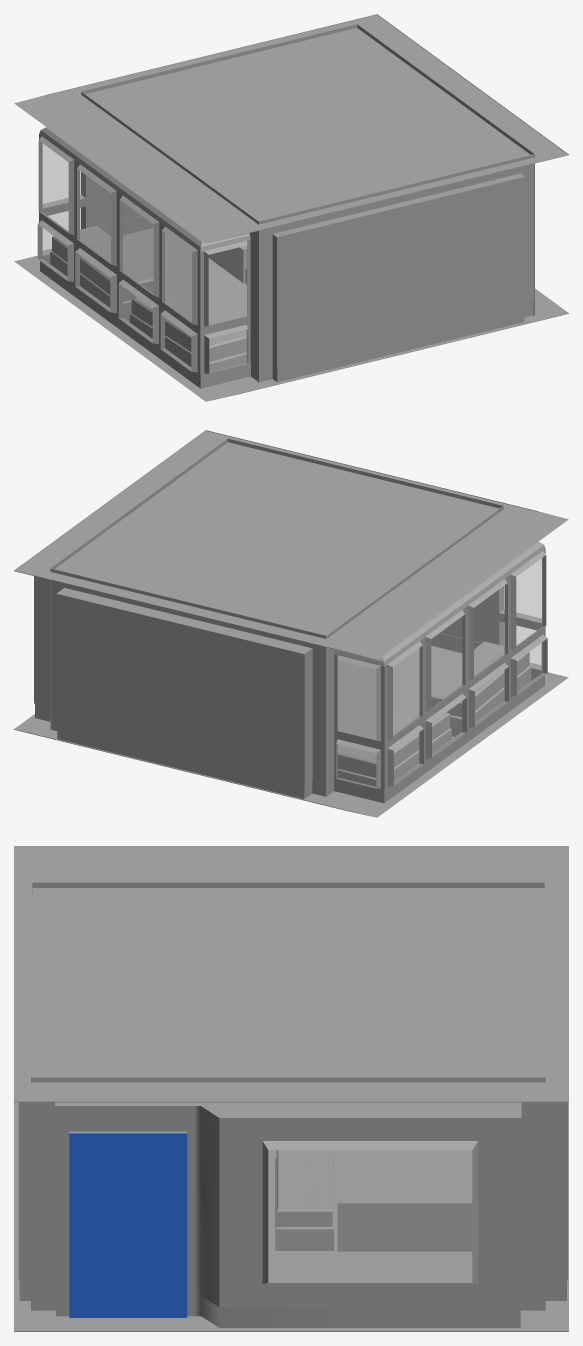
File: BedroomGreybox.fbx
3 renders of one model, top to bottom at view 1: azimuth 30°, elevation 25°; view 2: azimuth 150°, elevation 25°; view 3: azimuth 270°, elevation 25°, orthographic. The views are drawn at different scales.
Visible parts, largest first — view 1: Roof, Front_And_Back_Walls, Window_Wall, Floor, Window_Seat_02, Window_Seat_01, Wall_With_Window_And_Door, Bed; view 2: Roof, Front_And_Back_Walls, Window_Wall, Floor, Window_Seat_01, Wall_With_Window_And_Door, Window_Seat_02; view 3: Roof, Wall_With_Window_And_Door, Floor, Bed, Front_And_Back_Walls, Bed_Seat, Window_Wall.
Boxes of the visible parts, bbox=[...] form: Roof: bbox=[14, 14, 568, 243]; Front_And_Back_Walls: bbox=[81, 24, 534, 382]; Window_Wall: bbox=[37, 91, 259, 388]; Floor: bbox=[14, 228, 568, 401]; Window_Seat_02: bbox=[129, 287, 246, 371]; Window_Seat_01: bbox=[50, 226, 165, 321]; Wall_With_Window_And_Door: bbox=[357, 24, 534, 315]; Bed: bbox=[208, 245, 246, 283]; Roof: bbox=[14, 430, 568, 659]; Front_And_Back_Walls: bbox=[50, 438, 503, 799]; Window_Wall: bbox=[325, 506, 547, 803]; Floor: bbox=[14, 646, 568, 817]; Window_Seat_01: bbox=[337, 702, 451, 786]; Wall_With_Window_And_Door: bbox=[34, 438, 227, 729]; Window_Seat_02: bbox=[431, 641, 531, 736]; Roof: bbox=[14, 846, 568, 1102]; Wall_With_Window_And_Door: bbox=[32, 1077, 544, 1327]; Floor: bbox=[14, 1102, 568, 1331]; Bed: bbox=[337, 1150, 472, 1251]; Front_And_Back_Walls: bbox=[18, 882, 567, 1310]; Bed_Seat: bbox=[275, 1150, 333, 1250]; Window_Wall: bbox=[32, 882, 545, 887].
Size of the model in its own units: 662 by 281 by 602.
